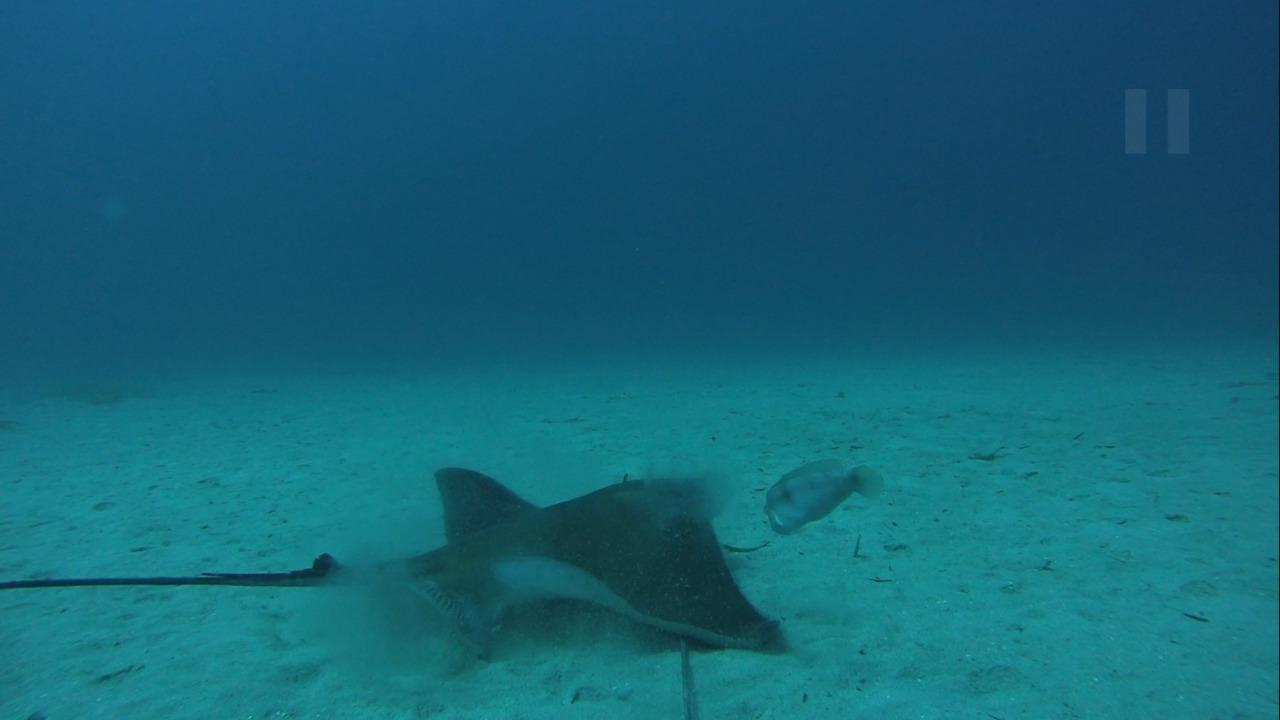myliobatis: (3, 461, 786, 667)
raor: (760, 453, 886, 536)
